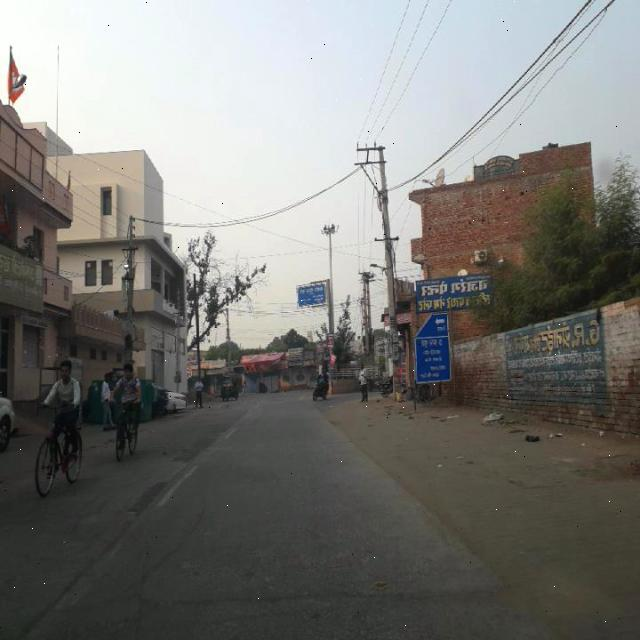D01: (1, 522, 134, 639), (137, 436, 217, 516)
D11: (77, 568, 514, 629)
D44: (41, 540, 128, 628)
